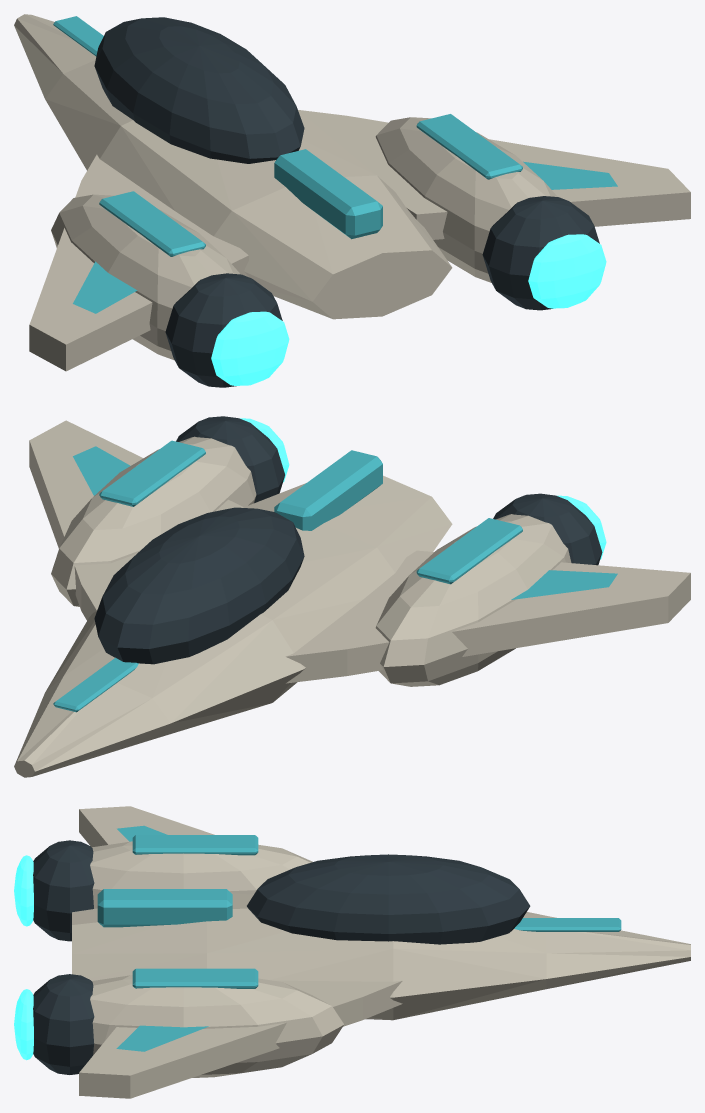
Rendered from ship.glb.
3 renders of one model, top to bottom at view 1: azimuth 30°, elevation 25°; view 2: azimuth 150°, elevation 25°; view 3: azimuth 270°, elevation 25°, orthographic. The views are drawn at different scales.
Visible parts, largest first — view 1: ship_mesh; view 2: ship_mesh; view 3: ship_mesh.
Part boxes in pixels (<box>): ship_mesh: <box>14,14,690,387</box>; ship_mesh: <box>14,416,690,777</box>; ship_mesh: <box>14,806,690,1098</box>.
Size of the model in its own units: 2.74 by 0.685 by 2.91.
